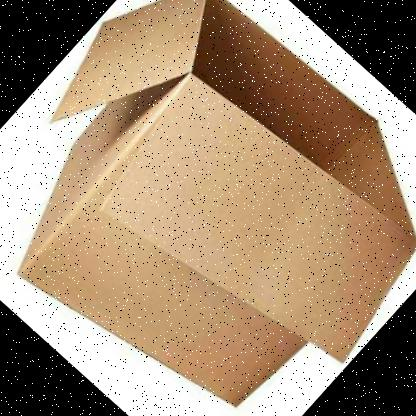box: (15, 1, 416, 407)
opened: (48, 1, 416, 366)
